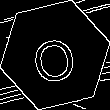O_N: (29, 26, 81, 84)
